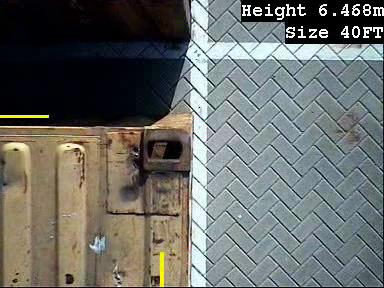groundmarker_2: (197, 54, 233, 101), (197, 227, 233, 274)
